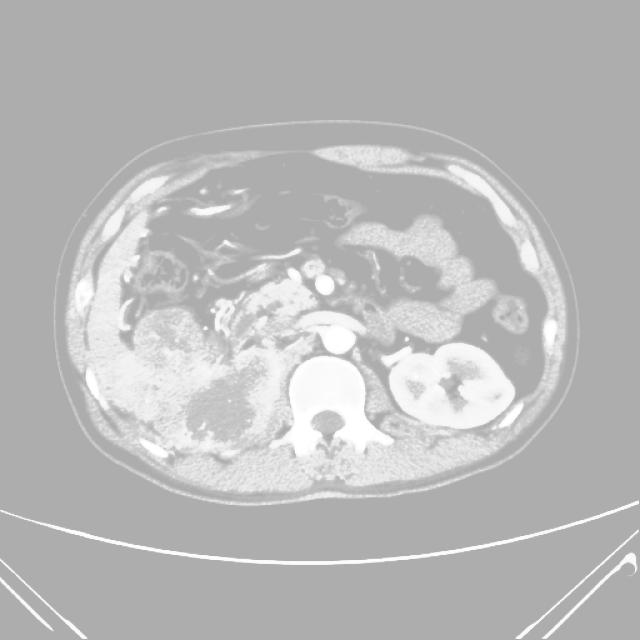TUMOR: (164, 174, 516, 464)
